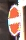No entry: (5, 5, 20, 35)
